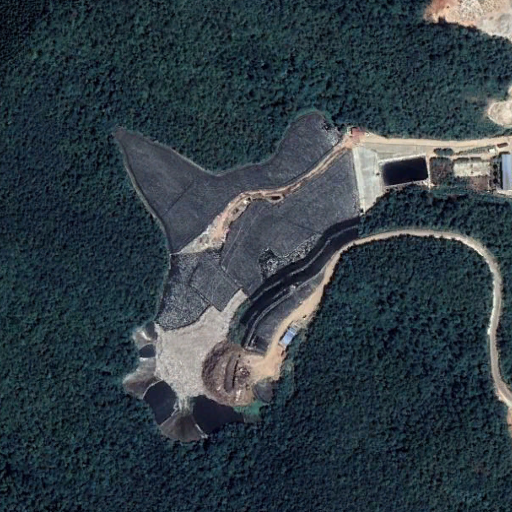lf: (121, 127, 354, 445)
